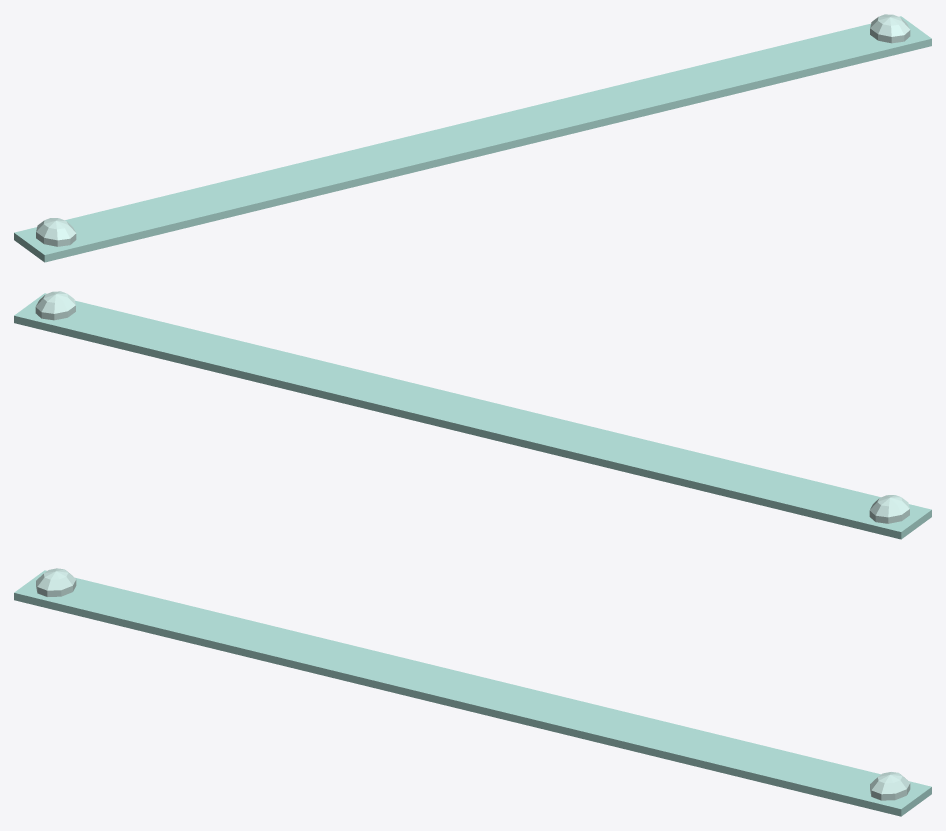
File: linea_meta.glb
3 views of the same model, one above another, from view 1: azimuth 30°, elevation 25°; view 2: azimuth 150°, elevation 25°; view 3: azimuth 330°, elevation 25° (orthographic).
Parts seen in each view (by area): view 1: linea_meta; view 2: linea_meta; view 3: linea_meta.
Part boxes in pixels (left/top/right/bottom): linea_meta: left=14, top=14, right=931, bottom=262; linea_meta: left=14, top=291, right=931, bottom=539; linea_meta: left=14, top=568, right=931, bottom=816.
Bounding box in the file's own units: 5 × 0.16 × 0.3.
